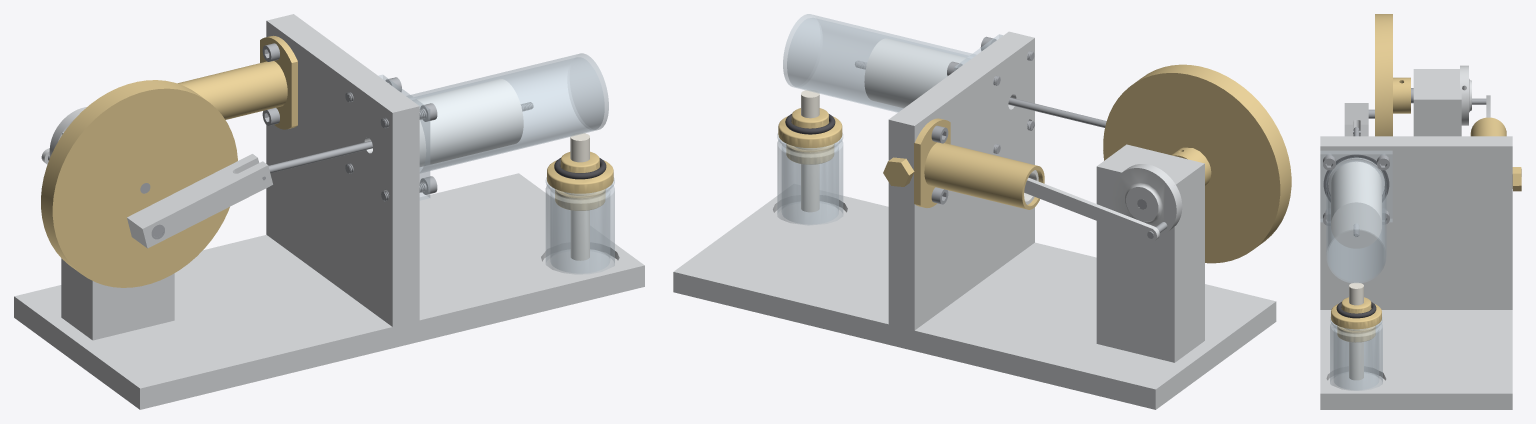
File: stirling-engine.glb
The picture shows the model from 3 angles, left to right: view 1: azimuth 30°, elevation 25°; view 2: azimuth 150°, elevation 25°; view 3: azimuth 270°, elevation 25°; orthographic projection. The views are drawn at different scales.
Parts seen in each view (by area): view 1: Baseplate_JP 1, CylinderPLate 1, FlyWheel 1, DC cylinder 1, Displacer Piston 2, BearingBlock 2, burner bottle 1, PowerCylinder 1, ConnectorLink 1, Burner Cap 1, wick 1, Displacer Rod 1; view 2: Baseplate_JP 1, CylinderPLate 1, FlyWheel 1, BearingBlock 2, DC cylinder 1, PowerCylinder 1, burner bottle 1, Displacer Piston 2, CrankWeb 1, Burner Cap 1, PowerConnector 1, wick 1 (+2 smaller); view 3: CylinderPLate 1, Baseplate_JP 1, DC cylinder 1, Displacer Piston 2, burner bottle 1, BearingBlock 2, FlyWheel 1, Burner Cap 1, wick 1, ConnectorLink 1, CrankWeb 1, PowerCylinder 1 (+3 smaller).
Part boxes in pixels (x1=…): Baseplate_JP 1: x1=14, y1=173, x2=644, y2=409; CylinderPLate 1: x1=266, y1=14, x2=419, y2=326; FlyWheel 1: x1=41, y1=80, x2=237, y2=287; DC cylinder 1: x1=379, y1=53, x2=608, y2=200; Displacer Piston 2: x1=412, y1=79, x2=523, y2=166; BearingBlock 2: x1=61, y1=132, x2=174, y2=340; burner bottle 1: x1=545, y1=177, x2=614, y2=274; PowerCylinder 1: x1=177, y1=35, x2=297, y2=129; ConnectorLink 1: x1=127, y1=154, x2=272, y2=248; Burner Cap 1: x1=547, y1=151, x2=613, y2=210; wick 1: x1=570, y1=133, x2=589, y2=260; Displacer Rod 1: x1=268, y1=102, x2=533, y2=173; Baseplate_JP 1: x1=673, y1=184, x2=1276, y2=409; CylinderPLate 1: x1=888, y1=31, x2=1034, y2=330; FlyWheel 1: x1=1103, y1=64, x2=1291, y2=263; BearingBlock 2: x1=1096, y1=144, x2=1204, y2=362; DC cylinder 1: x1=783, y1=14, x2=1002, y2=112; PowerCylinder 1: x1=914, y1=118, x2=1044, y2=209; burner bottle 1: x1=777, y1=133, x2=843, y2=225; Displacer Piston 2: x1=864, y1=38, x2=969, y2=108; CrankWeb 1: x1=1111, y1=164, x2=1182, y2=236; Burner Cap 1: x1=778, y1=108, x2=842, y2=164; PowerConnector 1: x1=1024, y1=177, x2=1159, y2=241; wick 1: x1=801, y1=90, x2=819, y2=212; CylinderPLate 1: x1=1320, y1=136, x2=1512, y2=309; Baseplate_JP 1: x1=1320, y1=310, x2=1512, y2=409; DC cylinder 1: x1=1320, y1=151, x2=1392, y2=283; Displacer Piston 2: x1=1331, y1=162, x2=1381, y2=248; burner bottle 1: x1=1330, y1=317, x2=1382, y2=390; BearingBlock 2: x1=1413, y1=69, x2=1461, y2=136; FlyWheel 1: x1=1375, y1=14, x2=1410, y2=136; Burner Cap 1: x1=1331, y1=297, x2=1381, y2=342; wick 1: x1=1349, y1=282, x2=1363, y2=380; ConnectorLink 1: x1=1344, y1=103, x2=1368, y2=136; CrankWeb 1: x1=1460, y1=65, x2=1471, y2=125; PowerCylinder 1: x1=1470, y1=117, x2=1506, y2=136.
Bounding box in the file's own units: 3.2 × 1.55 × 1.31.
